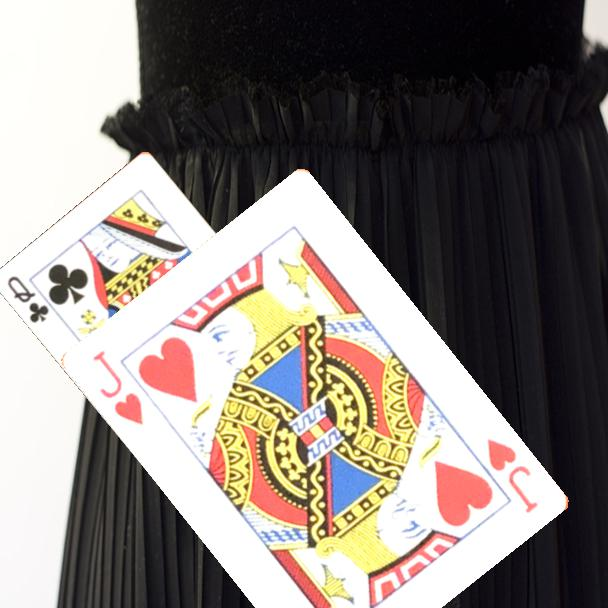c12: (4, 272, 52, 326)
h11: (483, 434, 542, 517), (89, 347, 147, 428)
